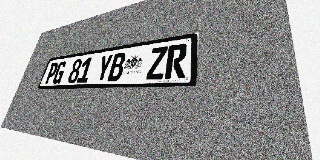1: (76, 57, 94, 83)
8: (67, 58, 84, 83)
B: (107, 52, 127, 82)
G: (52, 61, 67, 84)
P: (44, 62, 59, 84)
R: (164, 43, 188, 79)
Y: (95, 54, 113, 82)
Z: (146, 46, 168, 80)
